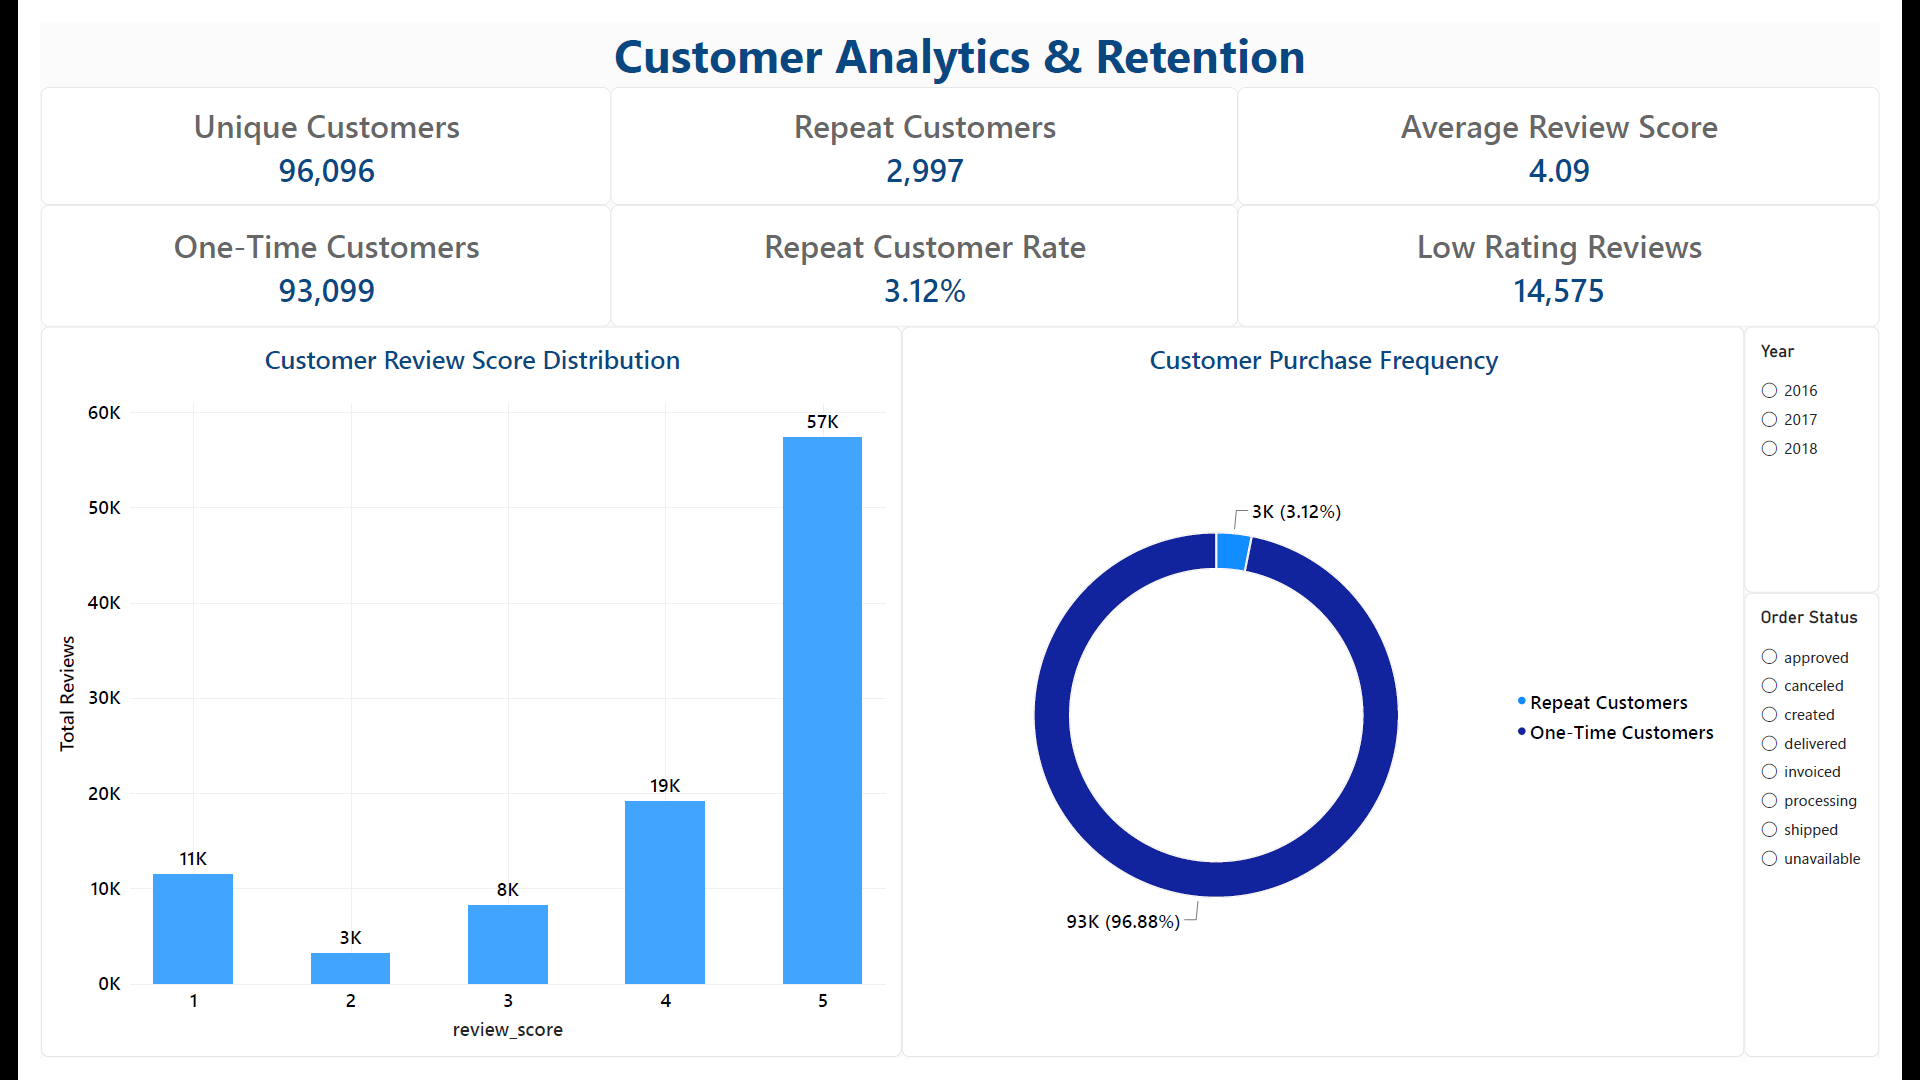

The dashboard page shown, as its layout file describes it:
{"tool":"powerbi","page":{"name":"Customer Analytics","canvas":[1920,1080],"ordinal":1},"visuals":[{"type":"donutChart","title":"Customer Purchase Frequency","fields":{"Y":["olist_customers_dataset.Repeat Customers (Filtered)","olist_customers_dataset.One-Time Customers (Filtered)"]},"box":[899.4,316.7,879.5,763.7],"z":0},{"type":"cardVisual","fields":{"Data":["olist_customers_dataset.Unique Customers (Filtered)"]},"box":[0,67,595.4,123.1],"z":1000},{"type":"cardVisual","fields":{"Data":["olist_customers_dataset.Repeat Customers (Filtered)"]},"box":[595.4,67,655.1,123.1],"z":2000},{"type":"cardVisual","fields":{"Data":["olist_customers_dataset.Repeat Customer Rate (Filtered)"]},"box":[595.4,190,655.1,126.7],"z":3000},{"type":"cardVisual","fields":{"Data":["olist_customers_dataset.One-Time Customers (Filtered)"]},"box":[0,190,595.4,126.7],"z":4000},{"type":"clusteredColumnChart","title":"Customer Review Score Distribution","fields":{"Category":["olist_order_reviews_dataset.review_score"],"Y":["olist_customers_dataset.Total Reviews"]},"box":[0,316.7,899.4,763.7],"z":5000},{"type":"cardVisual","fields":{"Data":["olist_customers_dataset.Average Review Score"]},"box":[1250.5,67,669.6,123.1],"z":6000},{"type":"cardVisual","fields":{"Data":["olist_customers_dataset.Low Rating Reviews"]},"box":[1250.5,190,669.6,126.7],"z":7000},{"type":"listSlicer","fields":{"Values":["olist_orders_dataset.order_purchase_timestamp.Variation.Date Hierarchy.Year"]},"box":[1778.9,316.7,141.2,278.7],"z":8000},{"type":"listSlicer","title":"Order Status","fields":{"Values":["olist_orders_dataset.order_status"]},"box":[1778.9,595.4,141.2,485],"z":9000},{"type":"textbox","box":[0,0,1920.1,67],"z":9001}]}

Visuals, with their boxes in screenshot pixels (x1, y1, x2, y2), scaled from the page's 1920x1080 canvas onto the 1920x1080 screenshot:
"Customer Purchase Frequency" donutChart: locate(899, 317, 1779, 1079)
cardVisual - olist_customers_dataset.Unique Customers (Filtered): locate(0, 67, 595, 190)
cardVisual - olist_customers_dataset.Repeat Customers (Filtered): locate(595, 67, 1250, 190)
cardVisual - olist_customers_dataset.Repeat Customer Rate (Filtered): locate(595, 190, 1250, 317)
cardVisual - olist_customers_dataset.One-Time Customers (Filtered): locate(0, 190, 595, 317)
"Customer Review Score Distribution" clusteredColumnChart: locate(0, 317, 899, 1079)
cardVisual - olist_customers_dataset.Average Review Score: locate(1250, 67, 1919, 190)
cardVisual - olist_customers_dataset.Low Rating Reviews: locate(1250, 190, 1919, 317)
listSlicer - olist_orders_dataset.order_purchase_timestamp.Variation.Date Hierarchy.Year: locate(1779, 317, 1919, 595)
"Order Status" listSlicer: locate(1779, 595, 1919, 1079)
textbox: locate(0, 0, 1919, 67)
